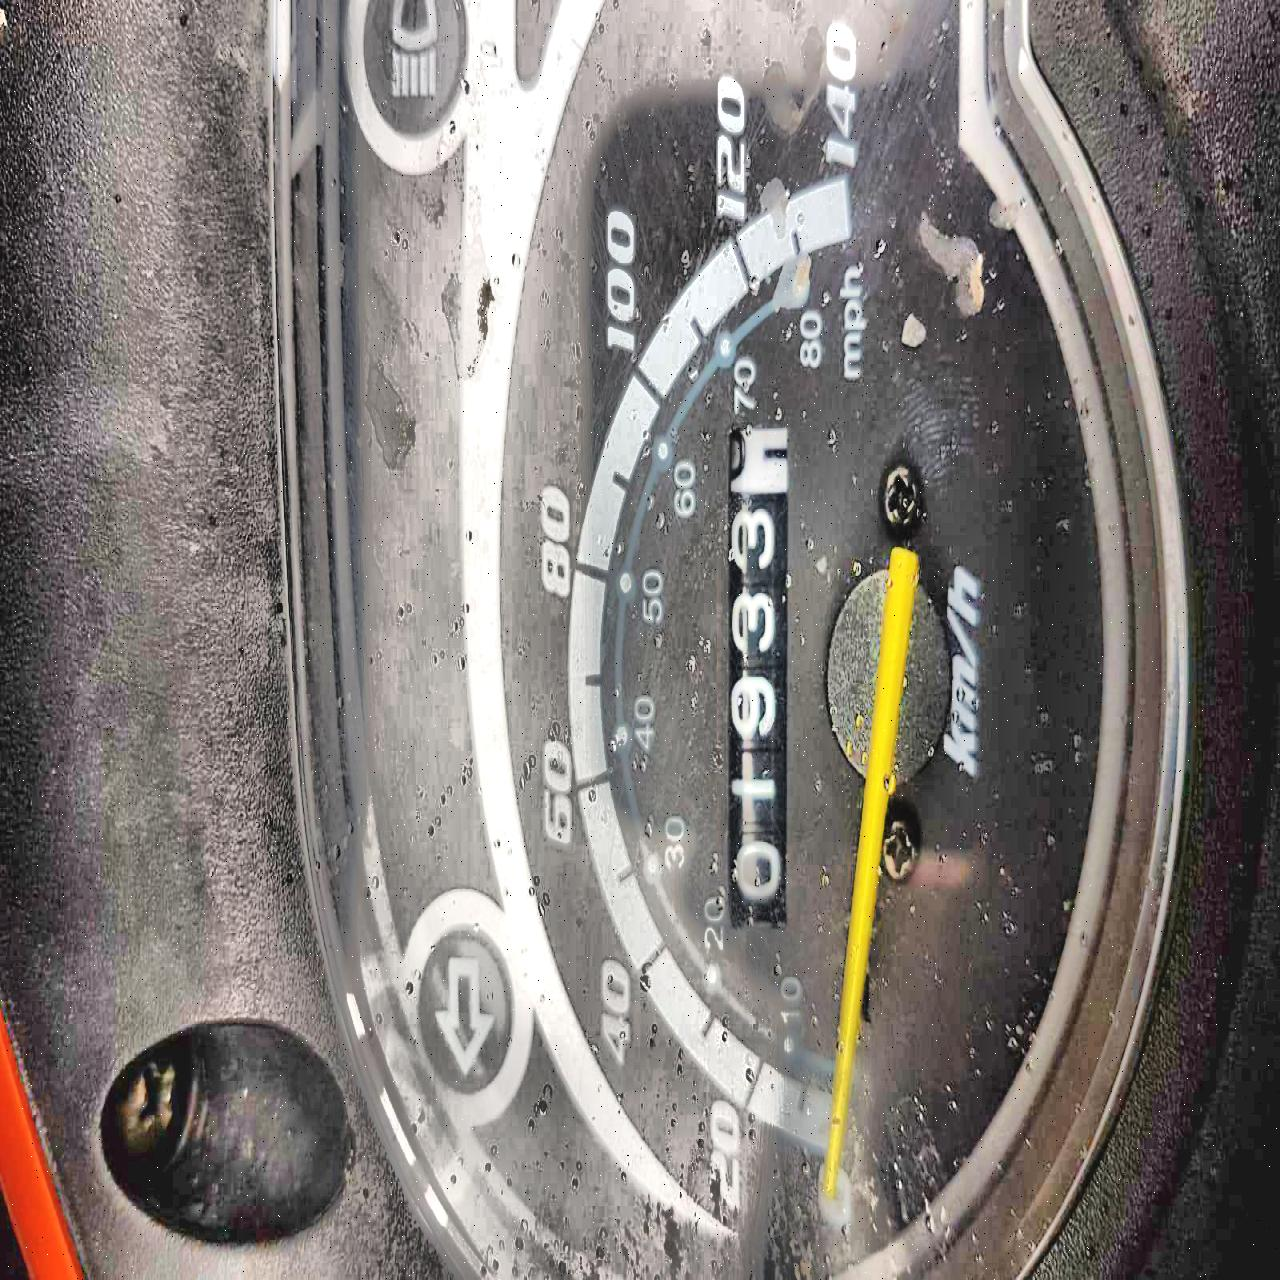0: (730, 835, 782, 903)
1: (724, 758, 782, 811), (757, 429, 788, 470)
3: (728, 587, 778, 659), (727, 501, 776, 573)
9: (726, 668, 778, 742)
odometer: (721, 415, 795, 941)
